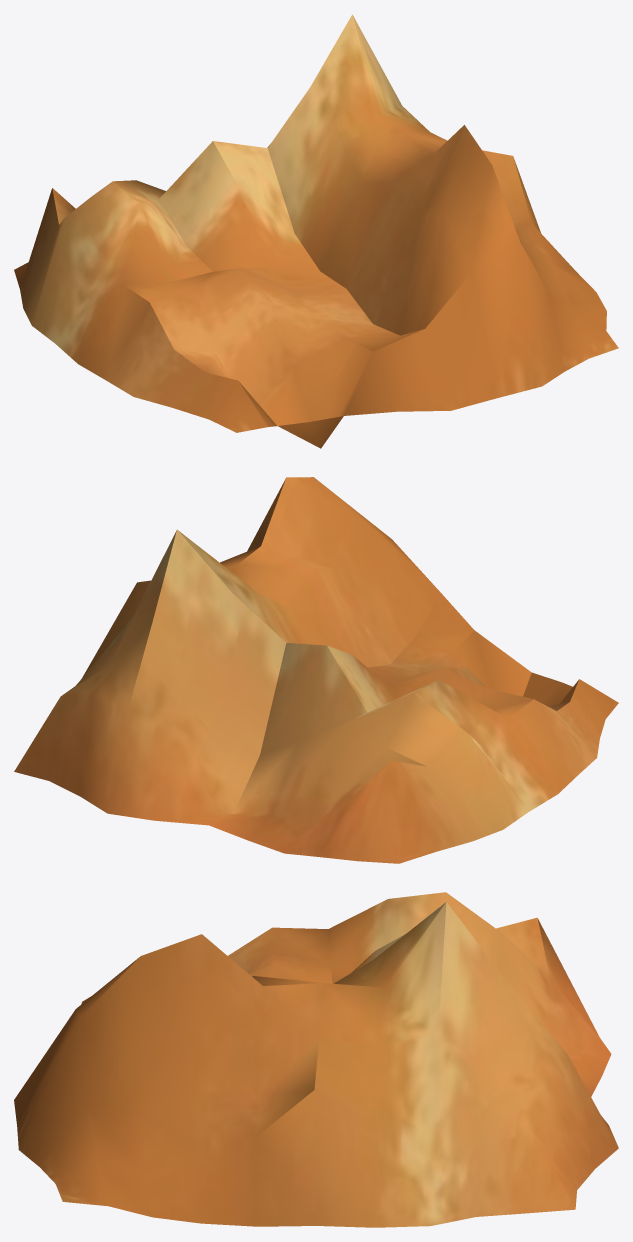
Rendered from stalagmite_000.fbx.
3 views of the same model, one above another, from view 1: azimuth 30°, elevation 25°; view 2: azimuth 150°, elevation 25°; view 3: azimuth 270°, elevation 25° (orthographic). The views are drawn at different scales.
Visible parts, largest first — view 1: stalagmite; view 2: stalagmite; view 3: stalagmite.
Part boxes in pixels (box(x1,y1,x2,y2)): stalagmite: box(14, 14, 618, 448); stalagmite: box(14, 477, 618, 863); stalagmite: box(14, 892, 618, 1227).
Bounding box in the file's own units: 218 × 124 × 221.
